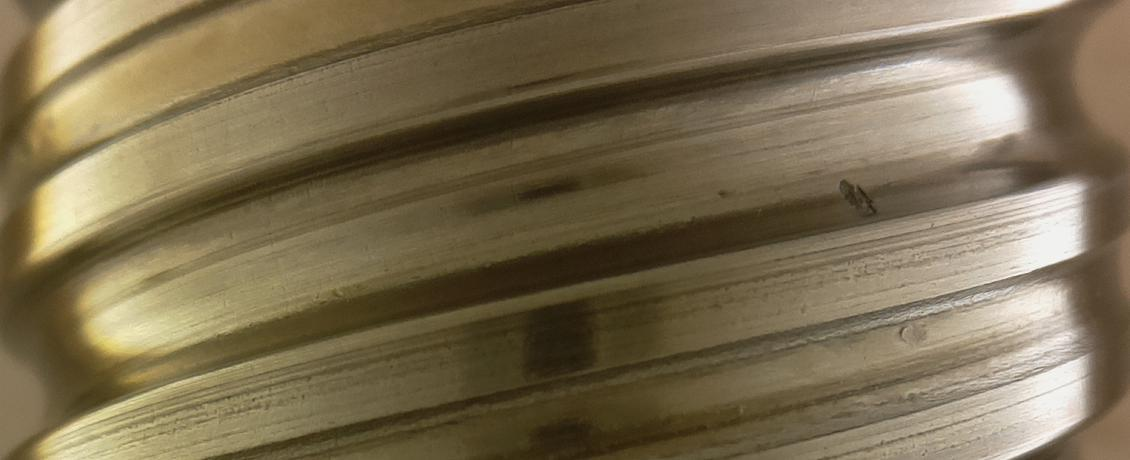pitting: (839, 179, 877, 217)
